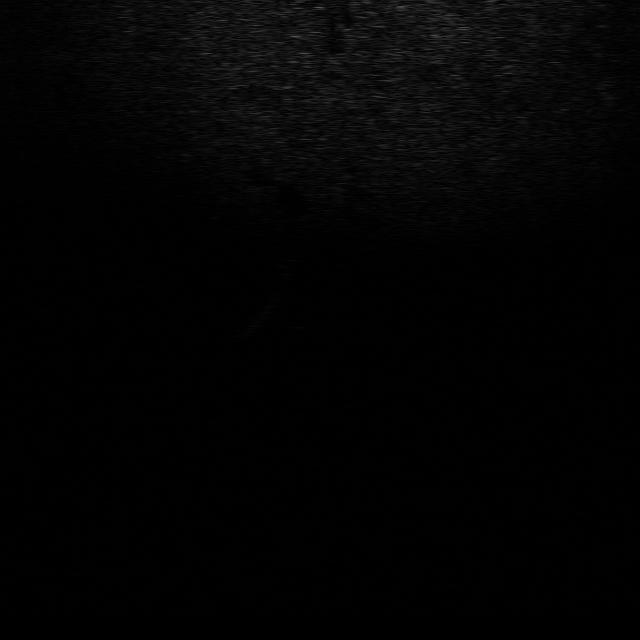human body: (227, 291, 285, 342)
